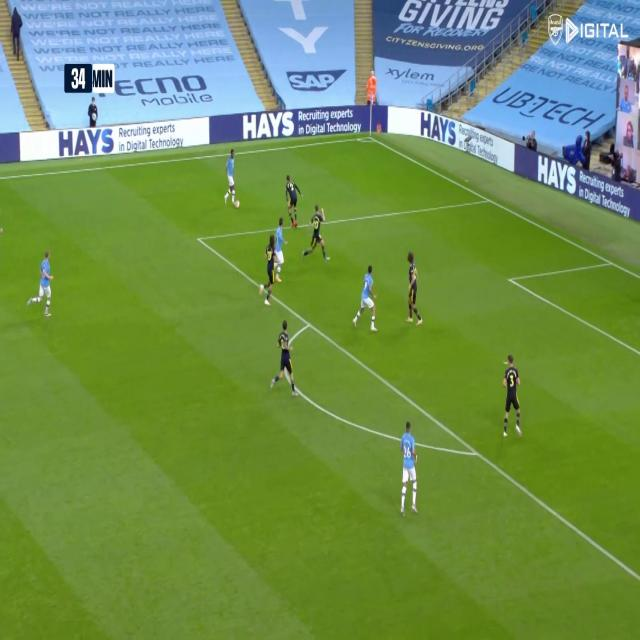Ball: (234, 195, 241, 210)
TEAM 1: (401, 423, 421, 520), (352, 265, 380, 333), (30, 248, 56, 318), (265, 222, 286, 286), (224, 148, 236, 203)
TEAM 2: (269, 320, 295, 390), (503, 358, 522, 438), (305, 203, 331, 261), (256, 229, 275, 306), (406, 252, 421, 324), (284, 175, 301, 229)
